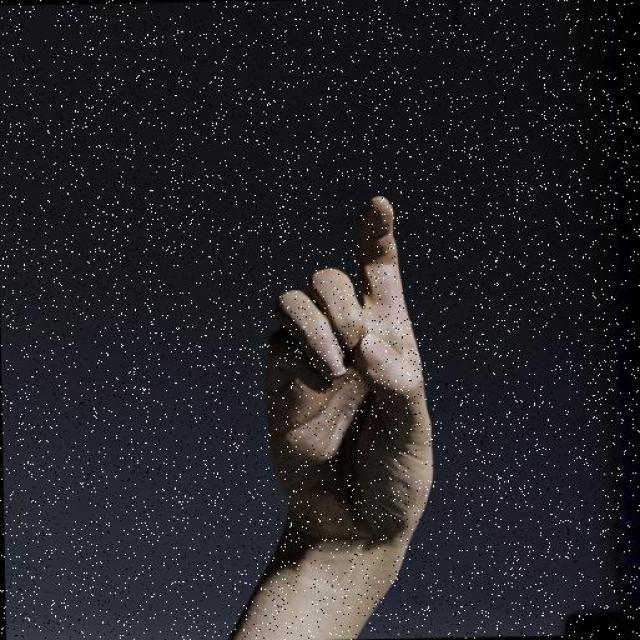X: (206, 190, 445, 614)
